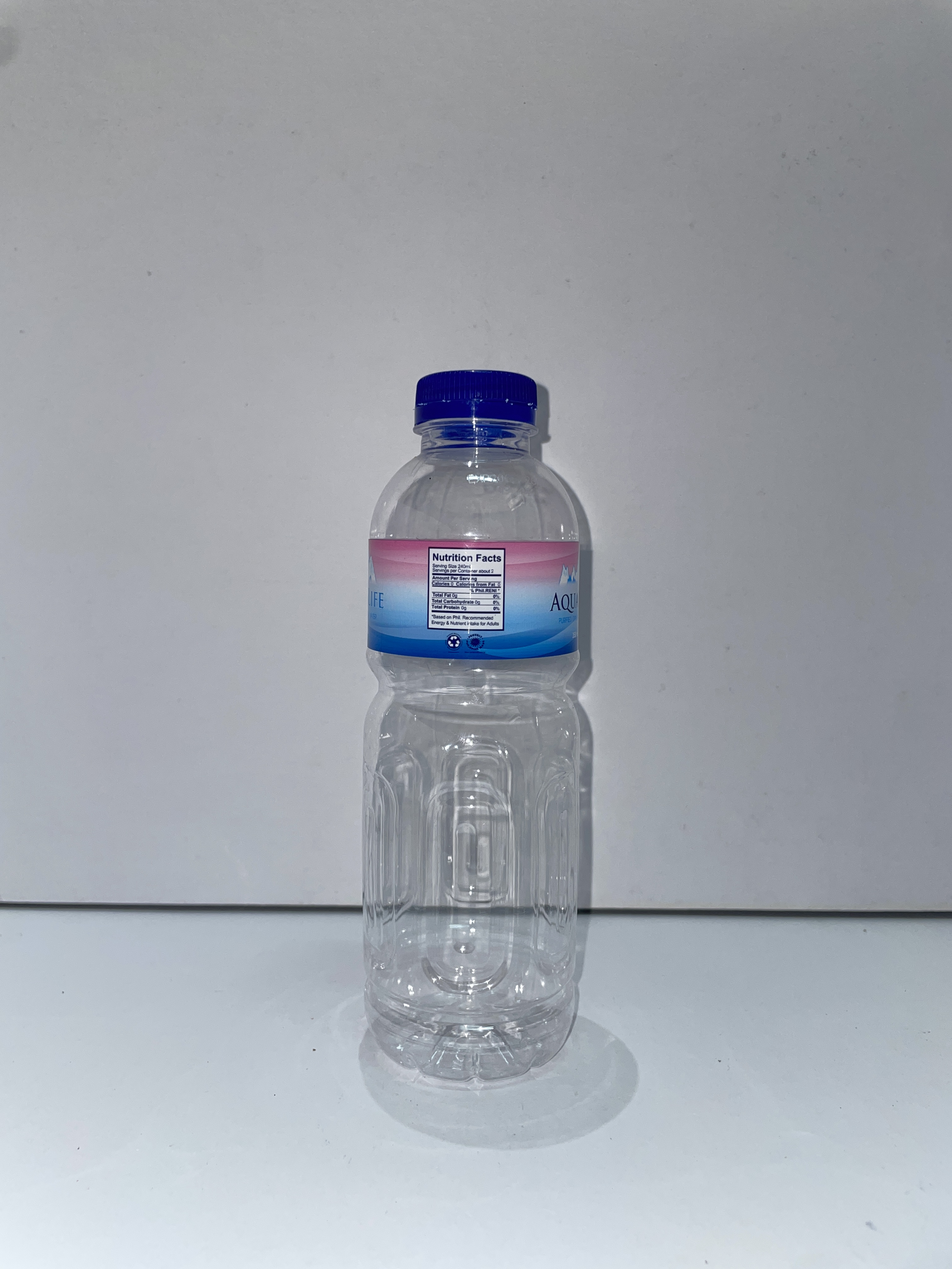Aqua Life 350ml: (363, 371, 580, 1081)
